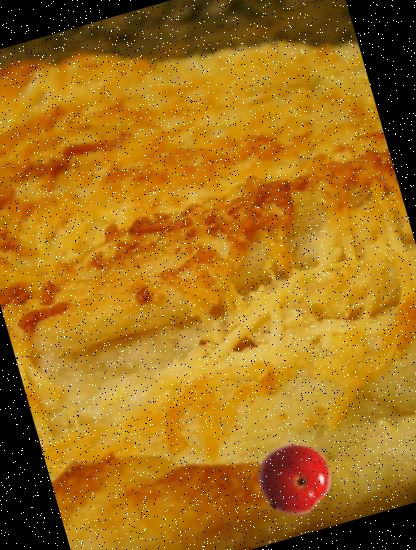Tomato: (248, 432, 338, 522)
